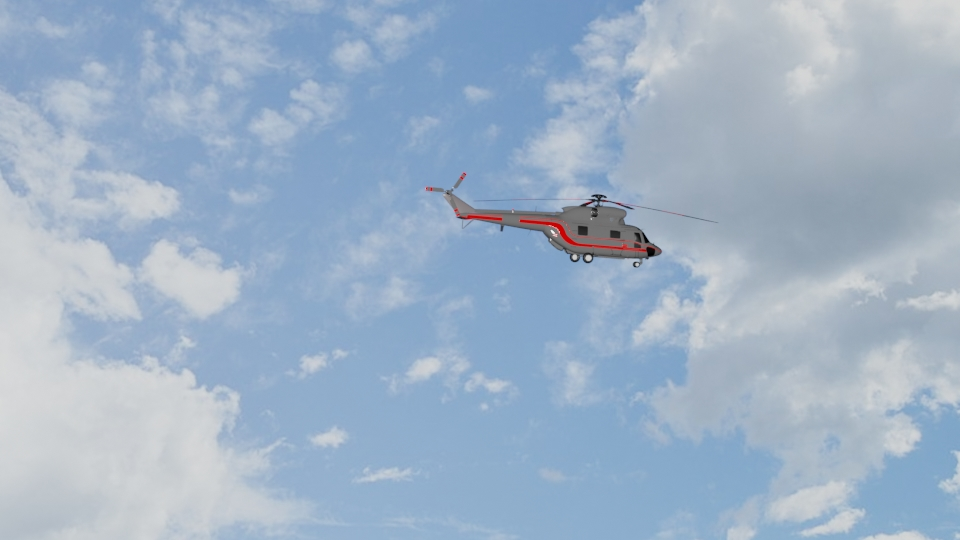heli: (425, 170, 669, 268)
